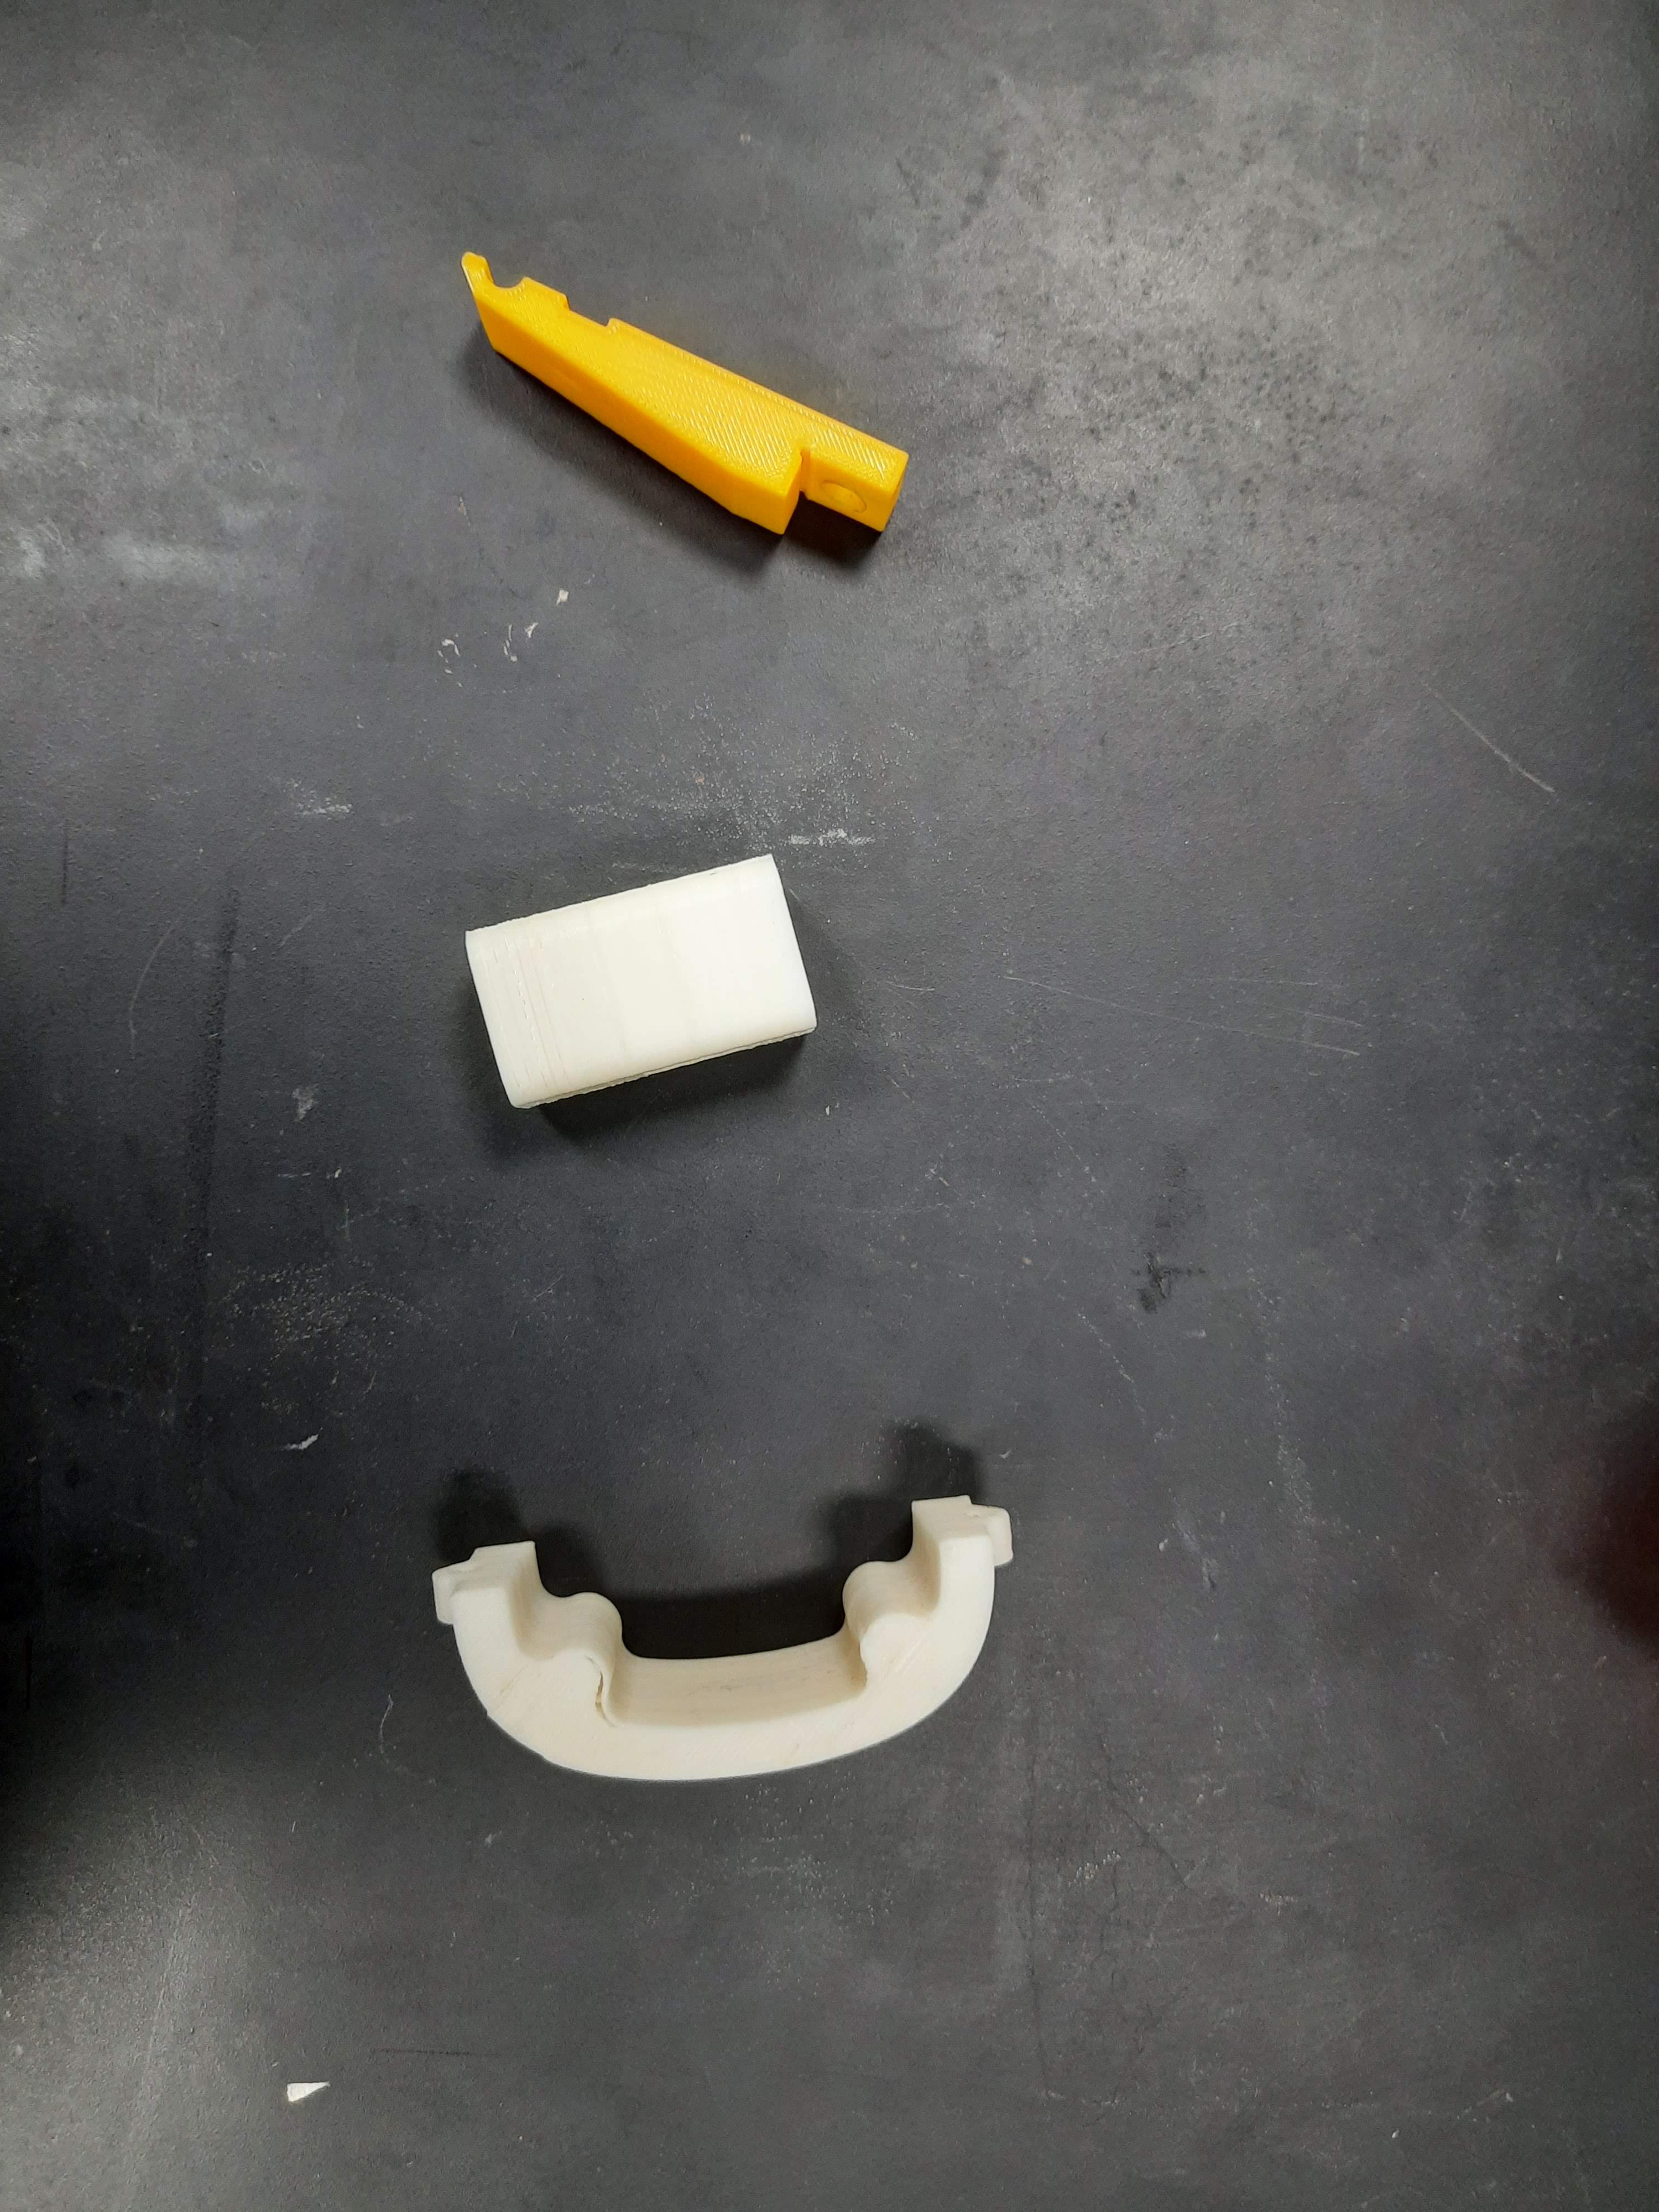ARC: (425, 1480, 1039, 1818)
CUBE: (469, 850, 821, 1103)
YELLOW: (403, 235, 925, 573)
